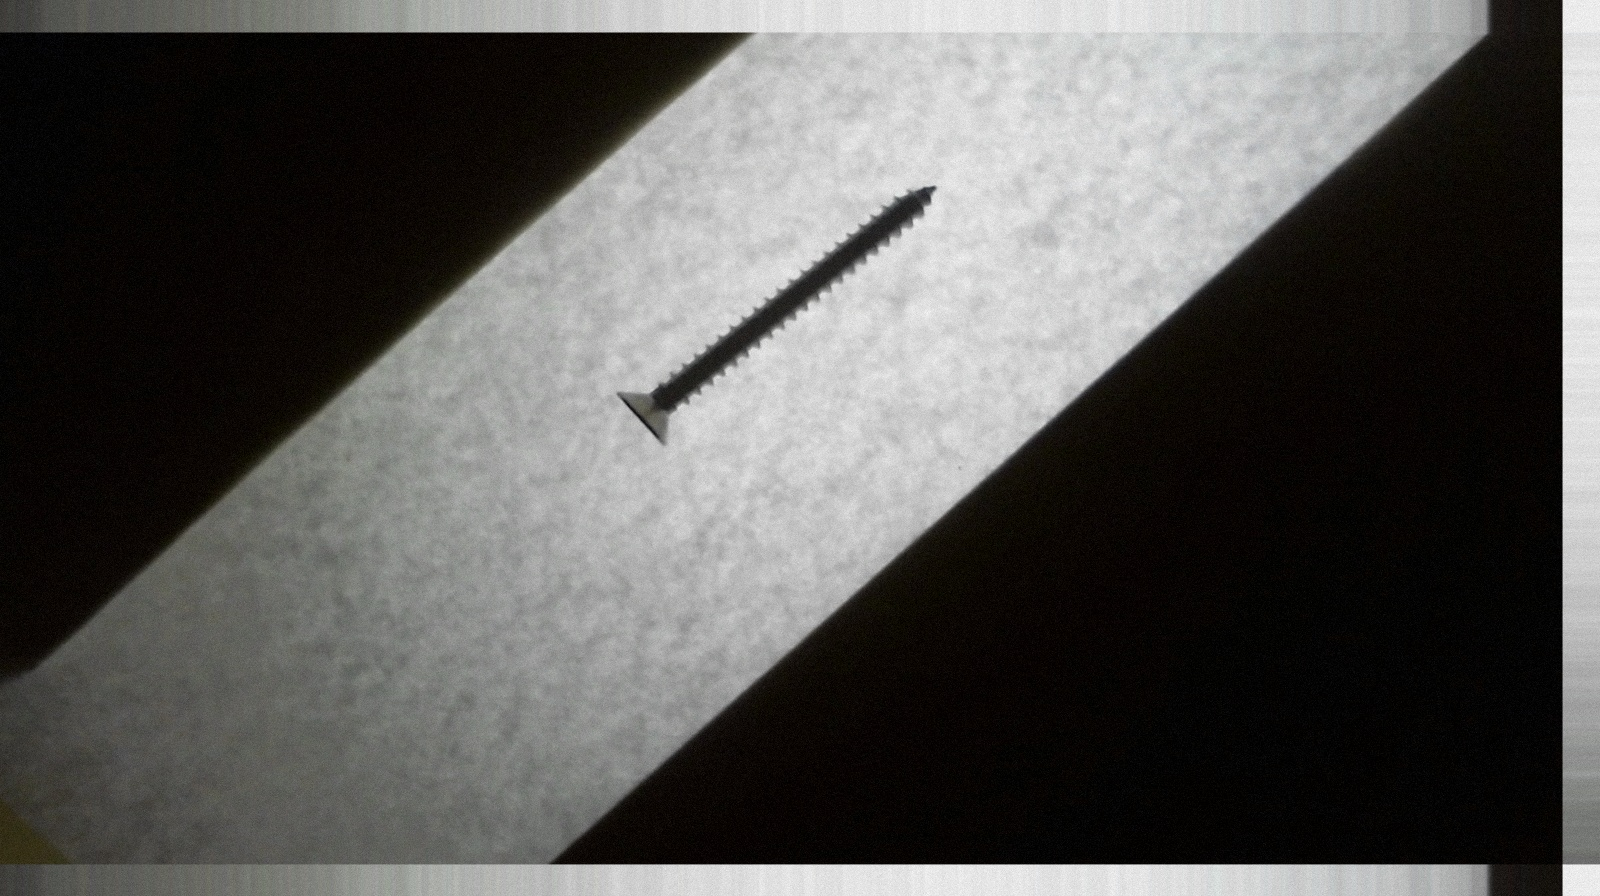S002: (601, 161, 956, 455)
